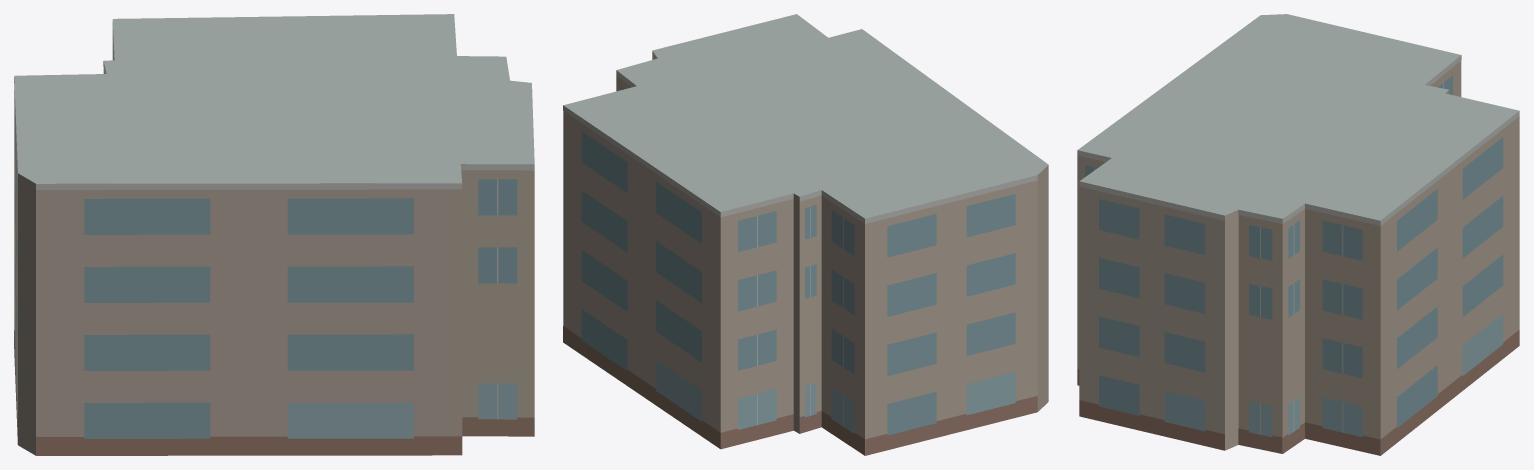
File: survey-upis-32782057.glb
3 views of the same model, side by side, from view 1: azimuth 30°, elevation 25°; view 2: azimuth 150°, elevation 25°; view 3: azimuth 270°, elevation 25° (orthographic). The views are drawn at different scales.
Visible parts, largest first — view 1: survey-upis-32782057.tmp; view 2: survey-upis-32782057.tmp; view 3: survey-upis-32782057.tmp.
Boxes of the visible parts, x1=… form: survey-upis-32782057.tmp: x1=14, y1=14, x2=534, y2=455; survey-upis-32782057.tmp: x1=563, y1=14, x2=1048, y2=455; survey-upis-32782057.tmp: x1=1077, y1=14, x2=1519, y2=455.
Bounding box in the file's own units: 20.57 × 10.9 × 18.59.
